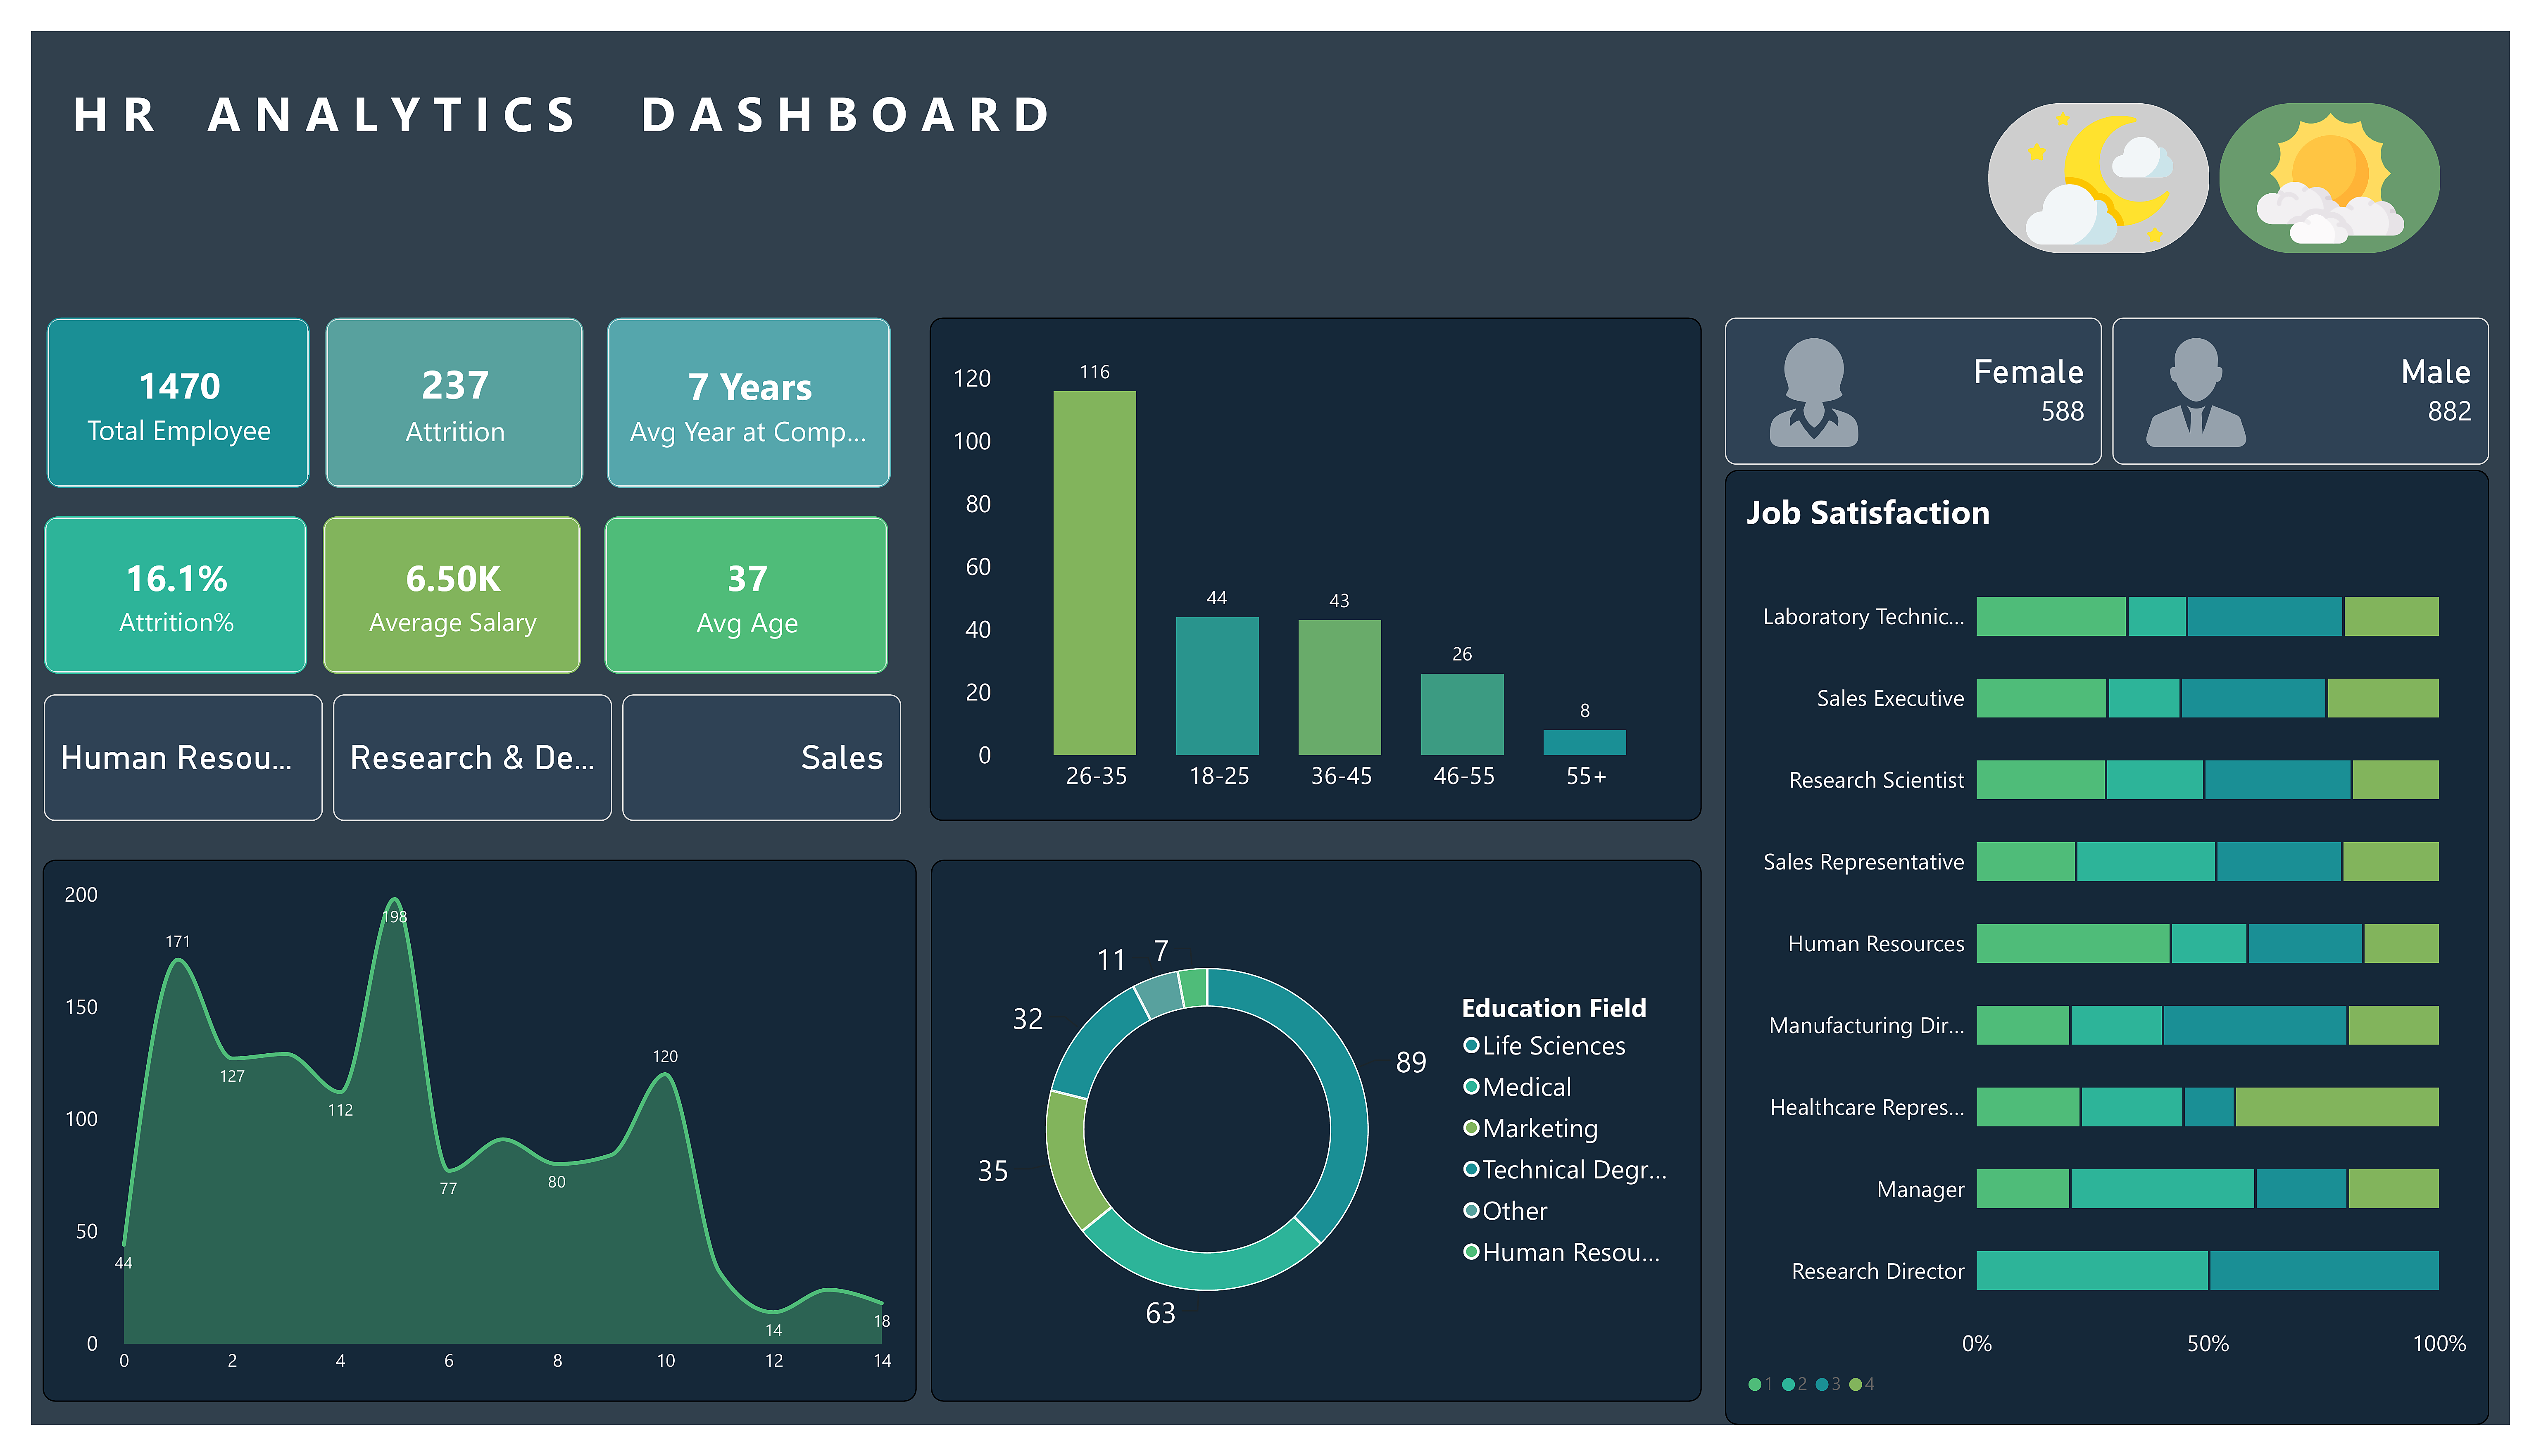

The page's visual inventory and layout, read from the dashboard file:
{"tool":"powerbi","page":{"name":"Duplicate HR Analytics Dashboard ","canvas":[1920,1080],"ordinal":0},"visuals":[{"type":"shape","box":[12,0,1908,1062],"z":0},{"type":"advancedSlicerVisual","fields":{"Values":["Dark-Mode.Label"]},"box":[1516,56,350,116],"z":1000},{"type":"image","box":[1337.5,222.5,92.5,97.5],"z":2000},{"type":"image","box":[1632.5,222.5,87.5,97.5],"z":3000},{"type":"cardVisual","fields":{"Data":["HR_Analytics.Employee_Count"]},"box":[11.6,222,204,132],"z":4000},{"type":"cardVisual","fields":{"Data":["HR_Analytics.Employee_Attrition"]},"box":[227.6,222,200,132],"z":5000},{"type":"cardVisual","fields":{"Data":["HR_Analytics.Attrition%"]},"box":[10,376,204,122],"z":6000},{"type":"cardVisual","fields":{"Data":["HR_Analytics.Average_Salary"]},"box":[226,376,200,122],"z":7000},{"type":"cardVisual","fields":{"Data":["HR_Analytics.Avg_Age"]},"box":[444,376,220,122],"z":8000},{"type":"areaChart","title":"Attrition by Years At Company","fields":{"Category":["HR_Analytics.YearsAtCompany"],"Y":["CountNonNull(HR_Analytics.Attrition)"]},"box":[10.9,642.4,676.8,419.8],"z":9000},{"type":"donutChart","title":"Attrition by Education Field","fields":{"Category":["HR_Analytics.EducationField"],"Y":["HR_Analytics.Employee_Attrition"]},"box":[696.7,642.4,597.2,419.8],"z":10000},{"type":"clusteredColumnChart","title":"Attrition by Age Group","fields":{"Category":["HR_Analytics.AgeGroup"],"Y":["HR_Analytics.Employee_Attrition"]},"box":[696.7,222.6,598,390],"z":11000},{"type":"hundredPercentStackedBarChart","title":"Job Satisfaction","fields":{"Category":["HR_Analytics.JobRole"],"Series":["HR_Analytics.JobSatisfaction"],"Y":["HR_Analytics.Employee_Attrition"]},"box":[1312,340.2,591.8,722.1],"z":12000},{"type":"cardVisual","fields":{"Data":["HR_Analytics.Years_with_Text"]},"box":[445.6,222,220,132],"z":13000},{"type":"advancedSlicerVisual","fields":{"Values":["HR_Analytics.Gender"]},"box":[1312,206,592,114],"z":14000},{"type":"advancedSlicerVisual","fields":{"Values":["HR_Analytics.Department"]},"box":[10,514,666,98],"z":15000},{"type":"shape","box":[0,26,176,132],"z":16000,"group":"g1"},{"type":"shape","box":[124,26,332.4,132],"z":17000,"group":"g1"},{"type":"shape","box":[420,26,384,132],"z":18000,"group":"g1"},{"type":"group","id":"g1","title":"Group 1","box":[0,26,804,132],"z":18001}]}

Visuals, with their boxes in screenshot pixels (x1, y1, x2, y2):
shape: left=29, top=26, right=2519, bottom=1412
advancedSlicerVisual - Dark-Mode.Label: left=1992, top=100, right=2448, bottom=251
image: left=1759, top=317, right=1880, bottom=444
image: left=2144, top=317, right=2258, bottom=444
cardVisual - HR_Analytics.Employee_Count: left=29, top=316, right=295, bottom=488
cardVisual - HR_Analytics.Employee_Attrition: left=310, top=316, right=571, bottom=488
cardVisual - HR_Analytics.Attrition%: left=26, top=517, right=293, bottom=676
cardVisual - HR_Analytics.Average_Salary: left=308, top=517, right=569, bottom=676
cardVisual - HR_Analytics.Avg_Age: left=593, top=517, right=880, bottom=676
"Attrition by Years At Company" areaChart: left=27, top=865, right=911, bottom=1412
"Attrition by Education Field" donutChart: left=923, top=865, right=1702, bottom=1412
"Attrition by Age Group" clusteredColumnChart: left=923, top=317, right=1703, bottom=826
"Job Satisfaction" hundredPercentStackedBarChart: left=1725, top=470, right=2498, bottom=1413
cardVisual - HR_Analytics.Years_with_Text: left=595, top=316, right=882, bottom=488
advancedSlicerVisual - HR_Analytics.Gender: left=1725, top=295, right=2498, bottom=444
advancedSlicerVisual - HR_Analytics.Department: left=26, top=697, right=895, bottom=825
shape: left=13, top=60, right=243, bottom=233
shape: left=175, top=60, right=609, bottom=233
shape: left=561, top=60, right=1063, bottom=233
"Group 1" group: left=13, top=60, right=1063, bottom=233
